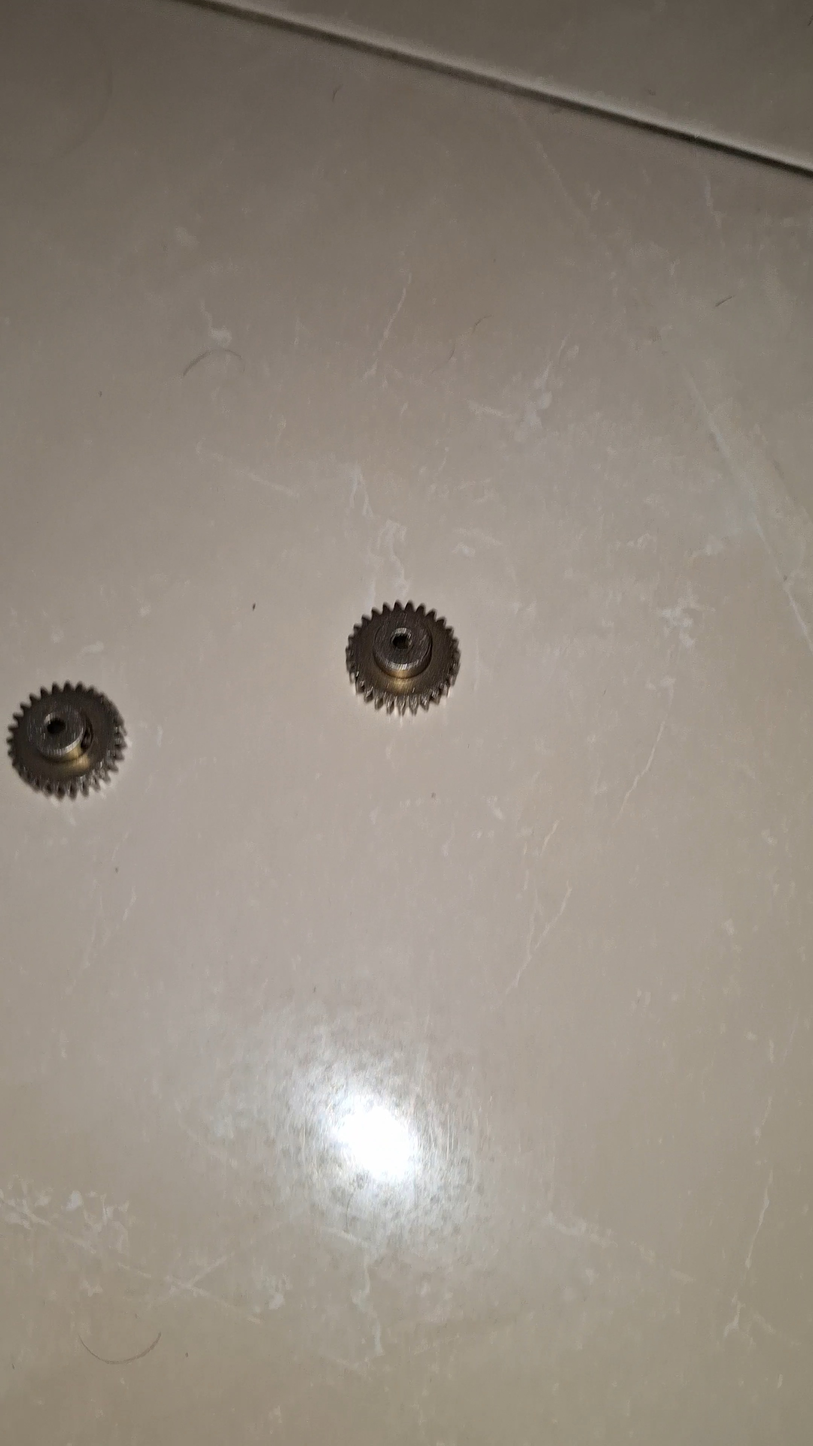spur gear: (8, 683, 125, 797), (346, 602, 460, 714)
